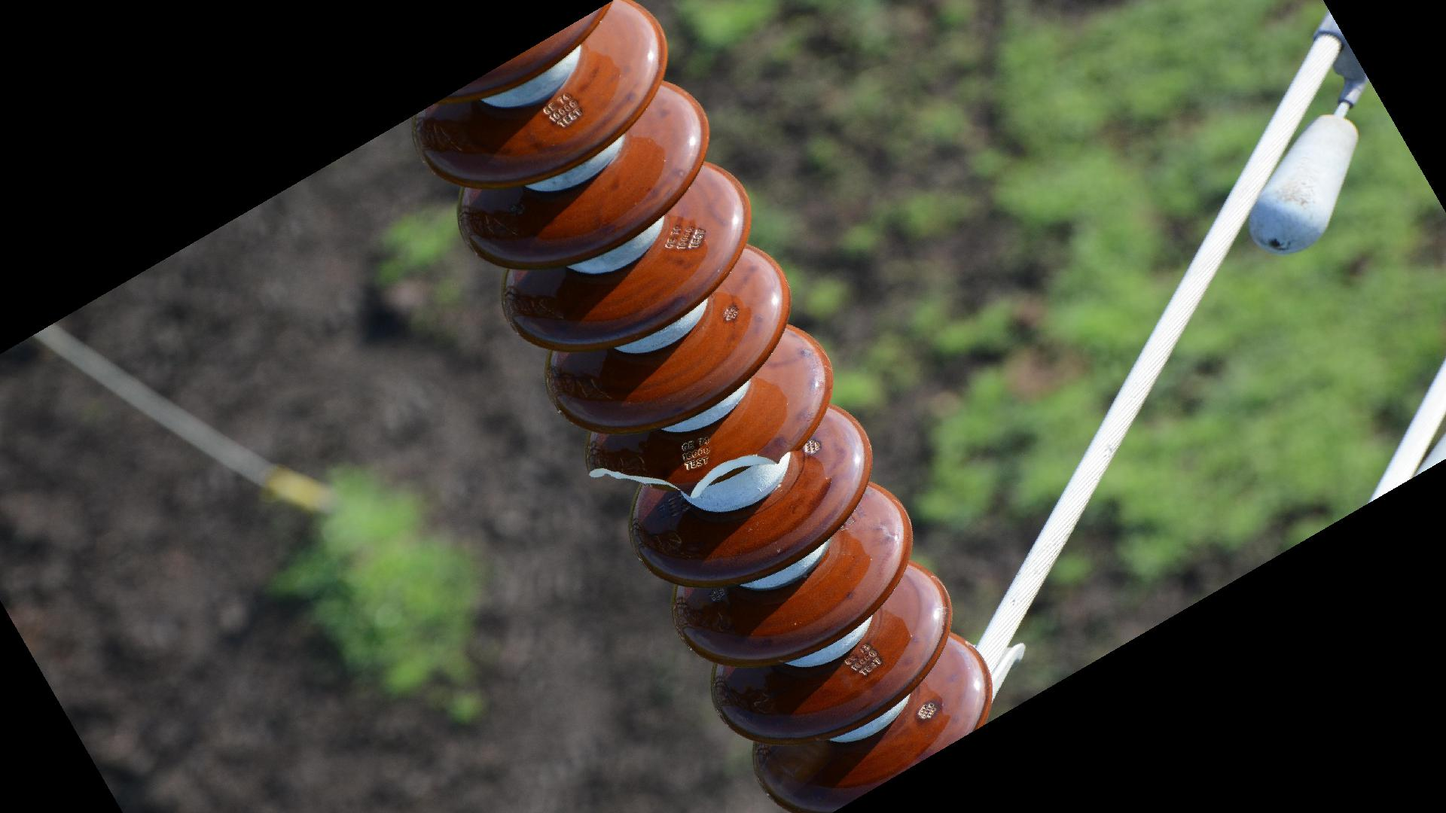insulator: (400, 1, 1000, 813)
insulator_breakage: (583, 449, 788, 504)
